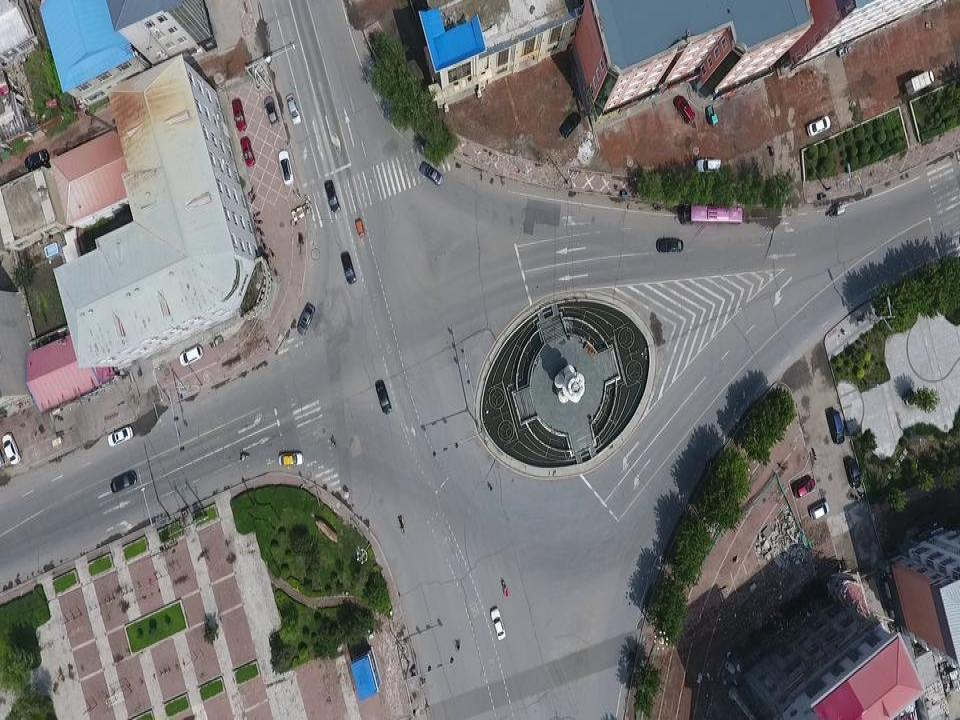bus: (681, 203, 744, 228)
car: (295, 301, 315, 335), (418, 161, 444, 187), (1, 434, 22, 466), (110, 468, 137, 492), (673, 95, 695, 124), (374, 378, 391, 415), (560, 110, 582, 138), (339, 250, 356, 286), (179, 342, 203, 367), (843, 456, 860, 489), (828, 409, 844, 444), (278, 150, 293, 187), (106, 426, 135, 445), (489, 608, 506, 640), (23, 148, 50, 168), (231, 97, 246, 132), (807, 113, 830, 135), (239, 136, 255, 167), (285, 92, 300, 125), (323, 179, 338, 212), (263, 95, 278, 125), (656, 237, 684, 251), (697, 158, 721, 173), (794, 479, 814, 496), (810, 503, 830, 520), (354, 217, 366, 240), (278, 454, 302, 465)
truck: (908, 70, 934, 94)
